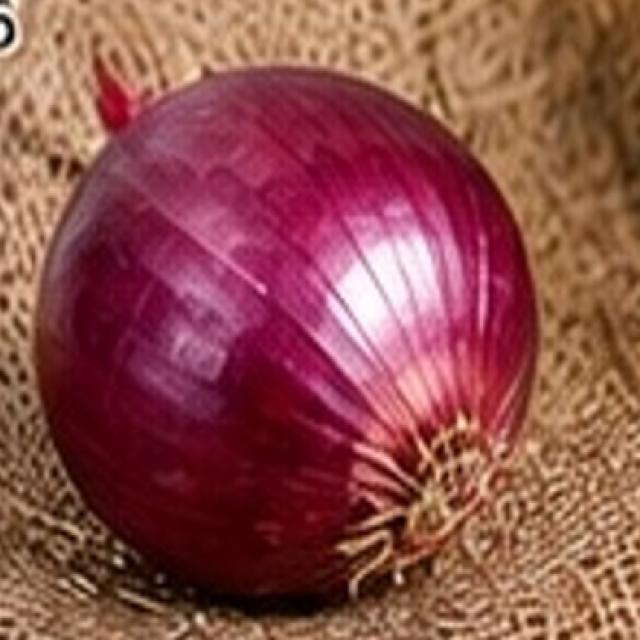healthy: (21, 49, 575, 612), (273, 282, 276, 283)
